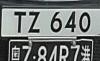0: (77, 10, 92, 33)
4: (63, 10, 78, 34)
6: (49, 9, 64, 35)
T: (12, 10, 28, 35)
Z: (27, 9, 43, 34)
